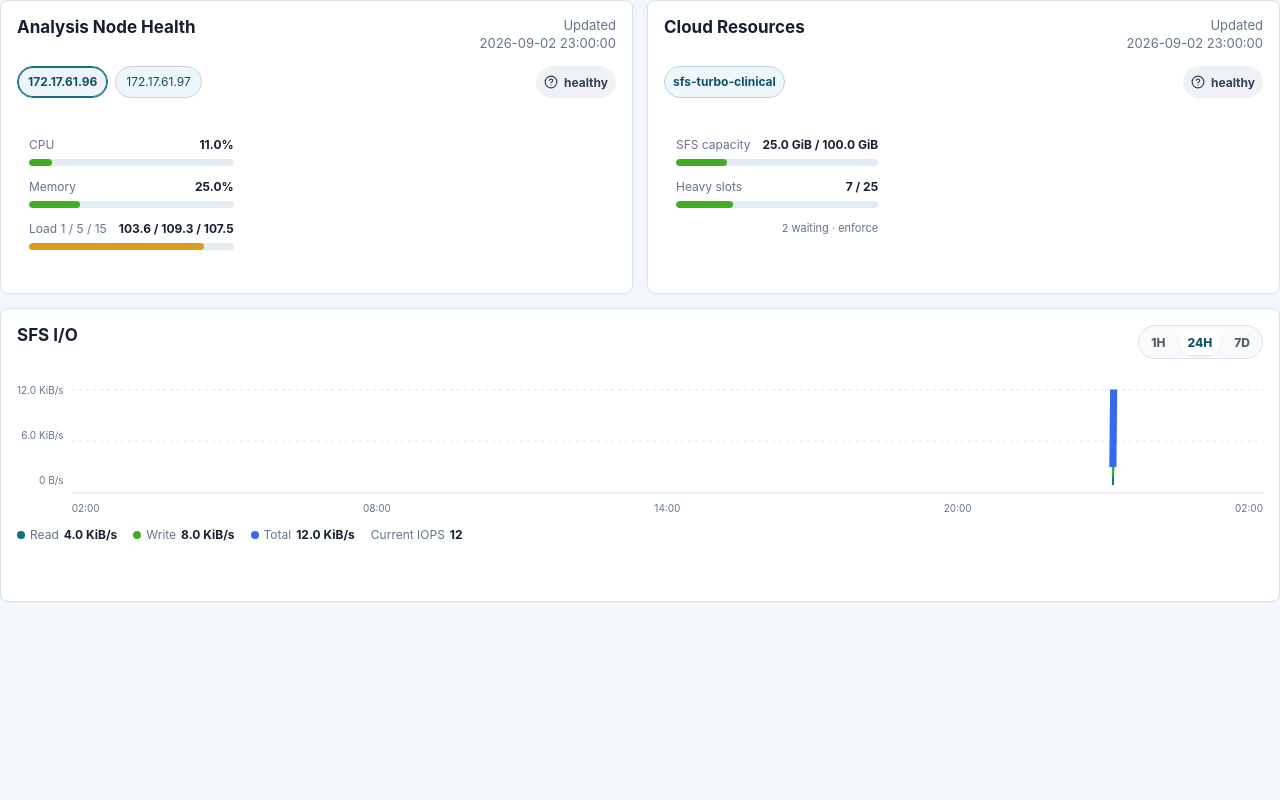
Test: shows compact node and SFS utilization bars with updated times in the headings
The image size is (1280, 800).
Expected: the text "11.0%" is shown, x1=199 y1=137 x2=234 y2=153
Expected: the text "103.6 / 109.3 / 107.5" is shown, x1=119 y1=221 x2=234 y2=237
Click the tab "172.17.61.97" at (159, 82), box x1=115 y1=66 x2=202 y2=98
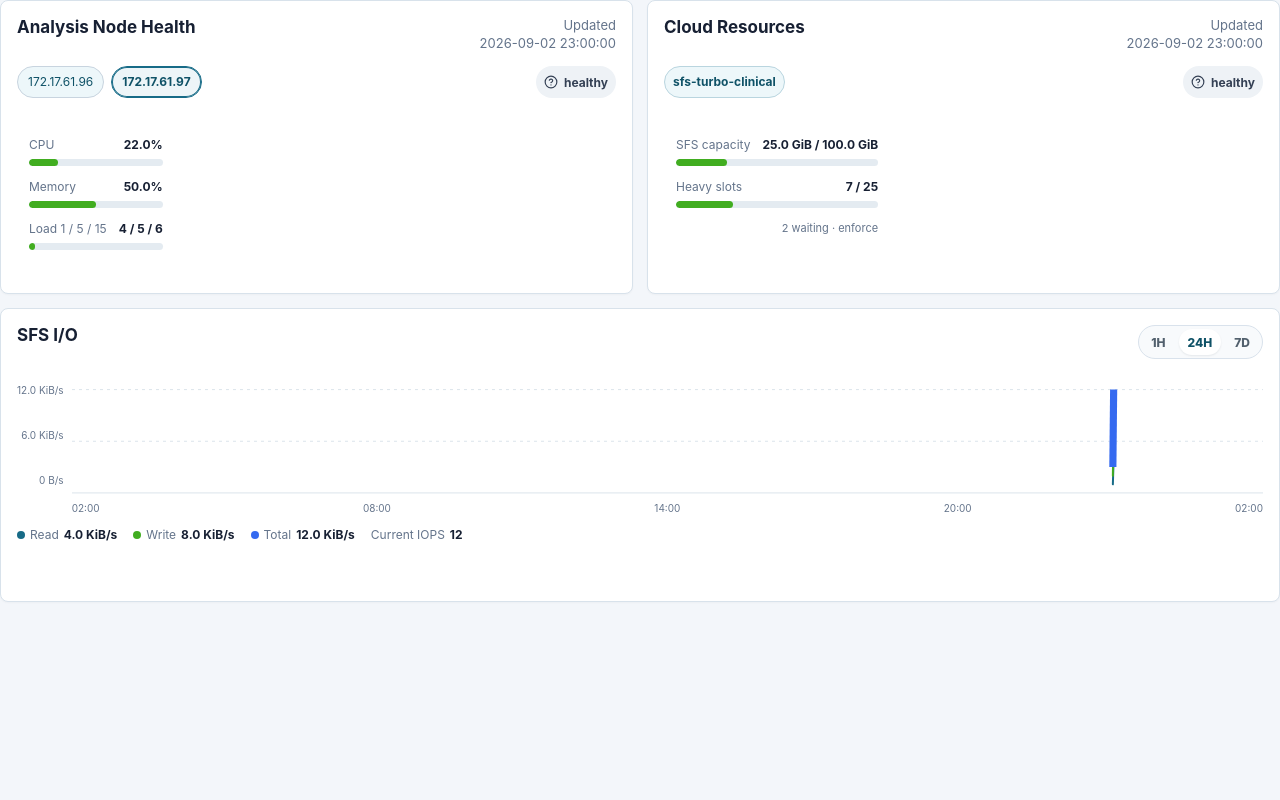
Result: the text "22.0%" is shown at x1=124 y1=137 x2=163 y2=153
Result: the text "4 / 5 / 6" is shown at x1=119 y1=221 x2=163 y2=237
Result: the text "11.0%" is gone
